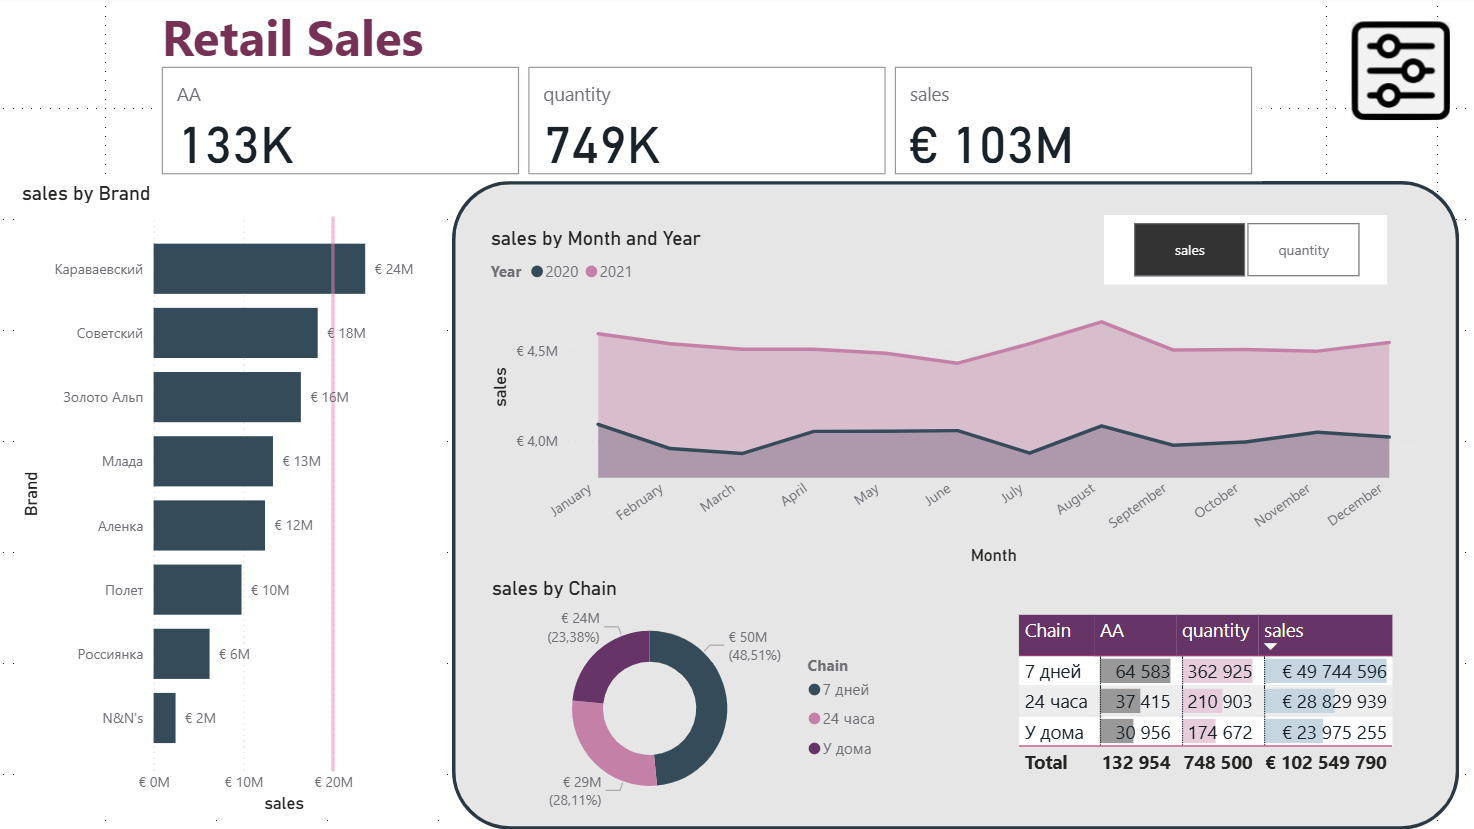

Layout of this report page (visuals, bound fields, positions):
{"tool":"powerbi","page":{"name":"Page 1","canvas":[1280,720],"ordinal":0},"visuals":[{"type":"shape","box":[395.7,159.3,871.1,561],"z":0},{"type":"textbox","box":[140,0,955.1,129],"z":1000},{"type":"cardVisual","fields":{"Data":["_m.AA","_m.quantity","_m.sales"]},"box":[139.9,55.5,955.5,103.8],"z":2000},{"type":"slicer","fields":{"Values":["select.select"]},"box":[960.3,188.2,244.9,60.3],"z":2500},{"type":"donutChart","fields":{"Y":["_m.sales"],"Category":["Клиенты.Chain"]},"box":[425.9,500.7,351.1,209.9],"z":3000},{"type":"clusteredBarChart","fields":{"Category":["Товары.Brand"],"Y":["_m.sales"]},"box":[19.3,159.3,366.8,551.3],"z":5000},{"type":"tableEx","fields":{"Values":["Клиенты.Chain","_m.AA","_m.quantity","_m.sales"]},"box":[880.7,529.6,399.3,190.6],"z":6000},{"type":"areaChart","fields":{"Y":["_m.sales"],"Category":["Продажи.date.Variation.Date Hierarchy.Month"],"Series":["Продажи.date.Variation.Date Hierarchy.Year"]},"box":[424.7,197.9,811.9,298],"z":7000},{"type":"actionButton","box":[1170.5,12.3,93.3,104.3],"z":8000}]}

Visuals, with their boxes in screenshot pixels (x1, y1, x2, y2), scaled from the page's 1280x720 canvas onto the 1474x829 screenshot:
shape: bbox=[456, 183, 1459, 828]
textbox: bbox=[161, 0, 1261, 149]
cardVisual - _m.AA x _m.quantity: bbox=[161, 64, 1261, 183]
slicer - select.select: bbox=[1106, 217, 1388, 286]
donutChart - _m.sales x Клиенты.Chain: bbox=[490, 577, 895, 818]
clusteredBarChart - Товары.Brand x _m.sales: bbox=[22, 183, 445, 818]
tableEx - Клиенты.Chain x _m.AA: bbox=[1014, 610, 1473, 828]
areaChart - _m.sales x Продажи.date.Variation.Date Hierarchy.Month: bbox=[489, 228, 1424, 571]
actionButton: bbox=[1348, 14, 1455, 134]
